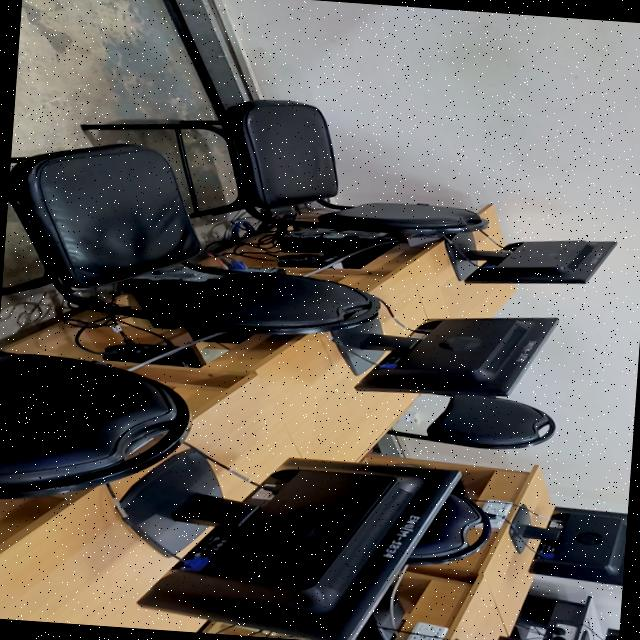Chair: (1, 142, 381, 338), (81, 98, 488, 236), (0, 349, 190, 497), (388, 394, 555, 448), (406, 479, 491, 564)
Cpu: (280, 235, 384, 254), (345, 244, 392, 267)
Monitor: (109, 445, 460, 640), (333, 316, 558, 395), (509, 505, 627, 584), (445, 232, 616, 282), (358, 576, 404, 640)
